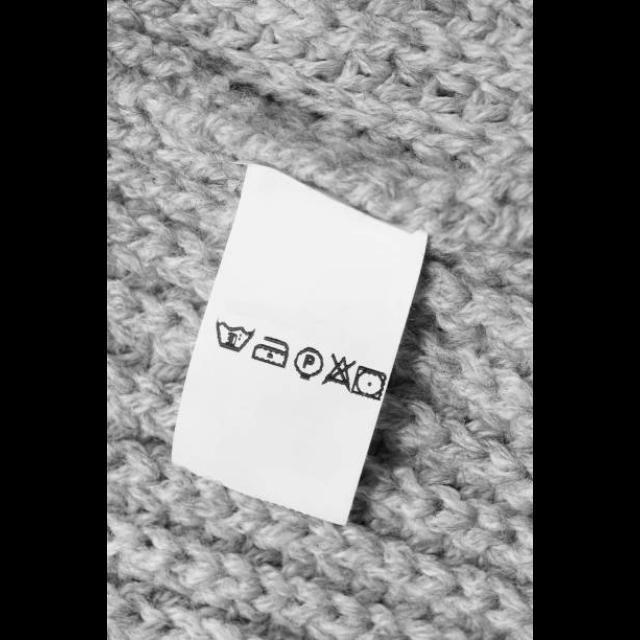30C: (214, 318, 256, 354)
DN_bleach: (320, 351, 358, 393)
iron_low: (250, 335, 292, 369)
normal_dry_clean_solvents: (292, 344, 326, 382)
tumble_dry_low: (350, 362, 388, 402)
